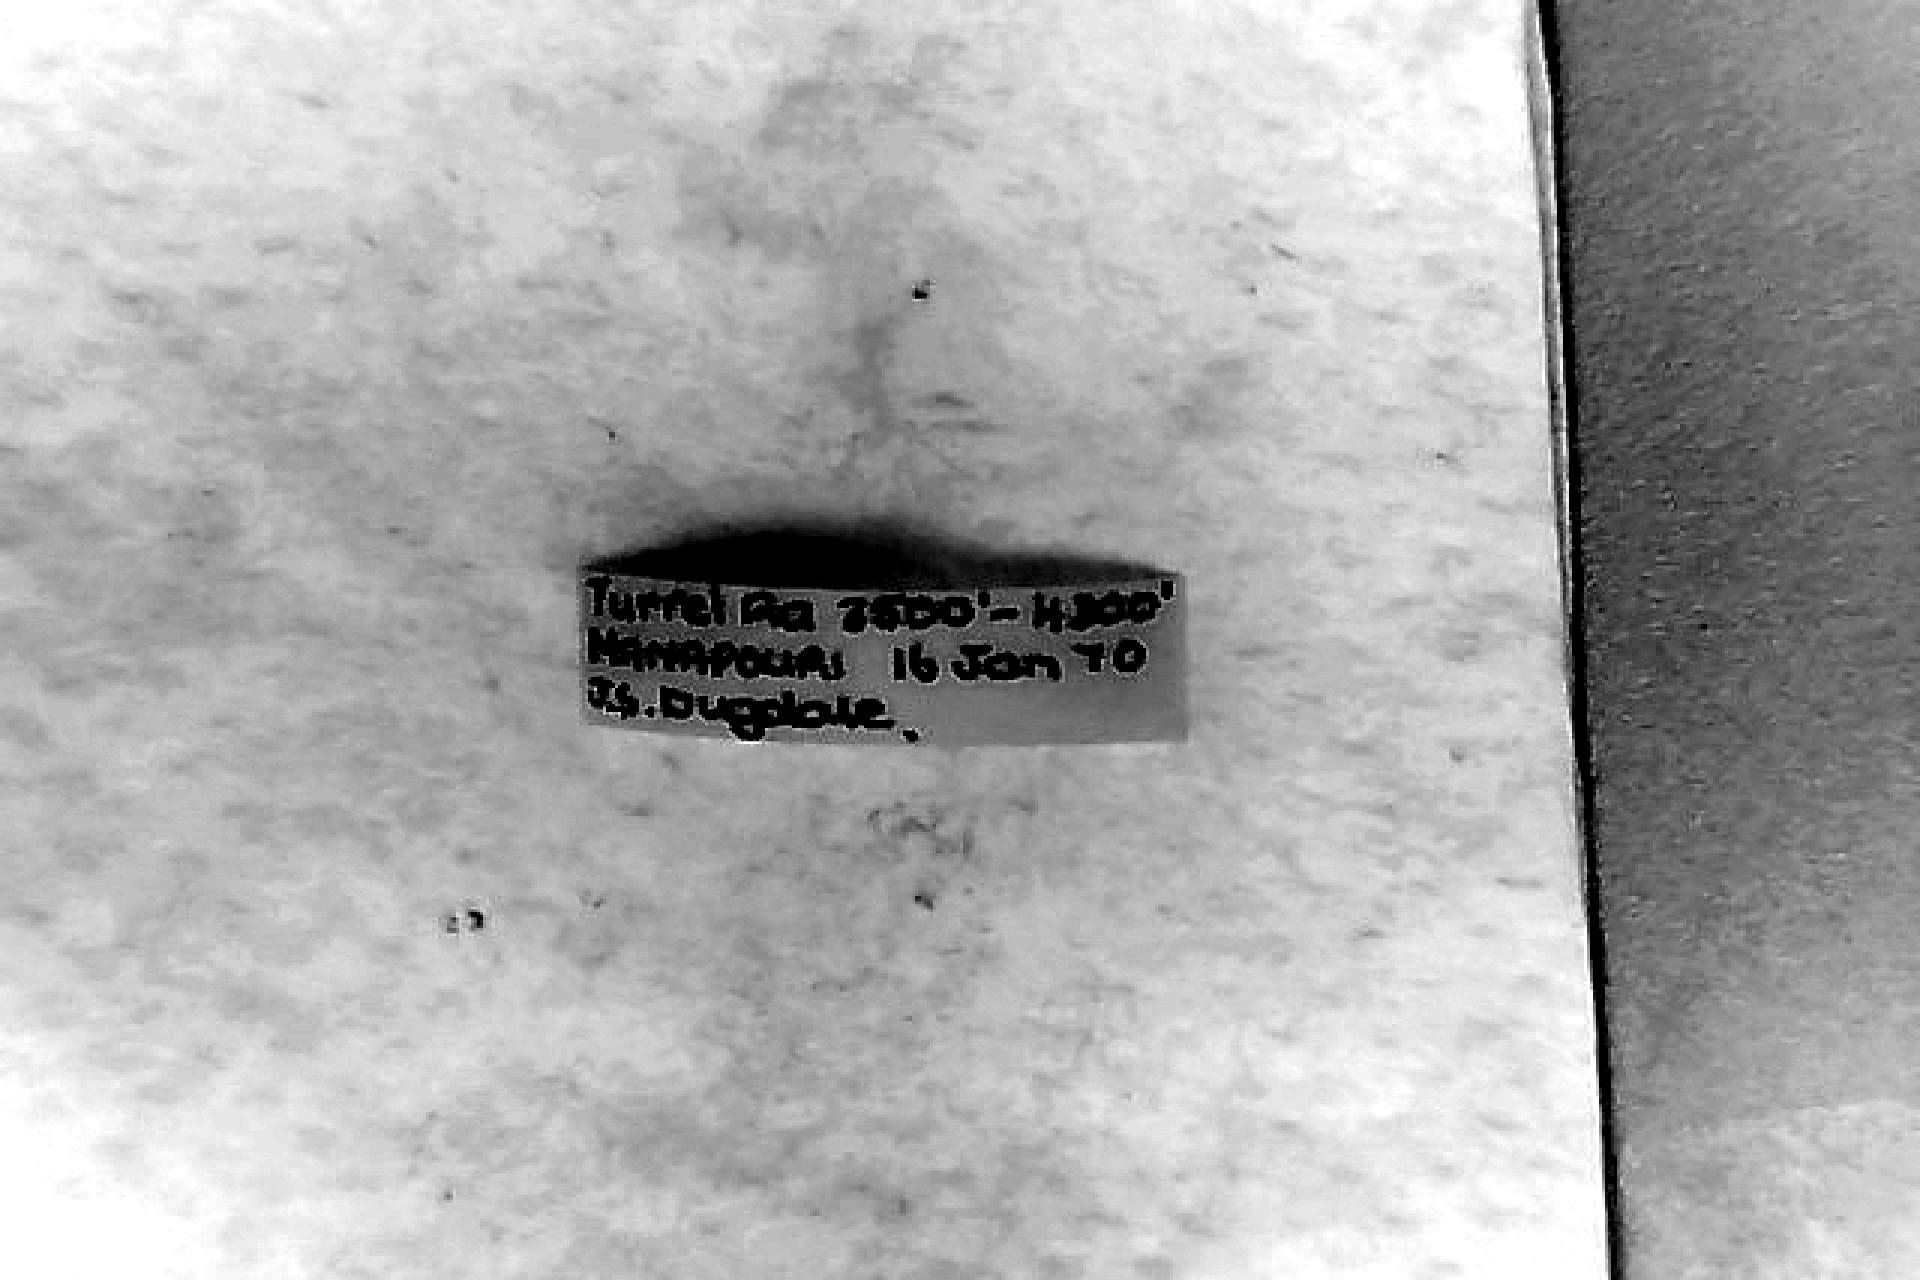hand_label: (585, 577, 1185, 742)
